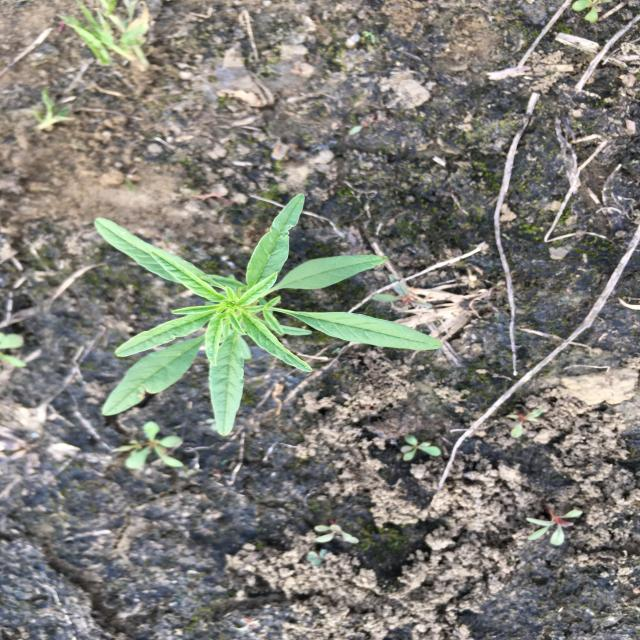Carpetweed: (112, 421, 187, 474)
Waterhemp: (93, 193, 444, 438)
